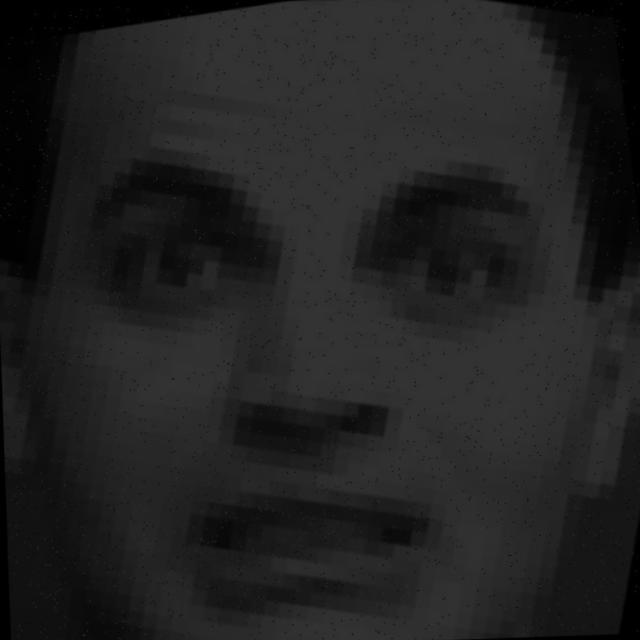Disgust: (29, 96, 640, 640)
